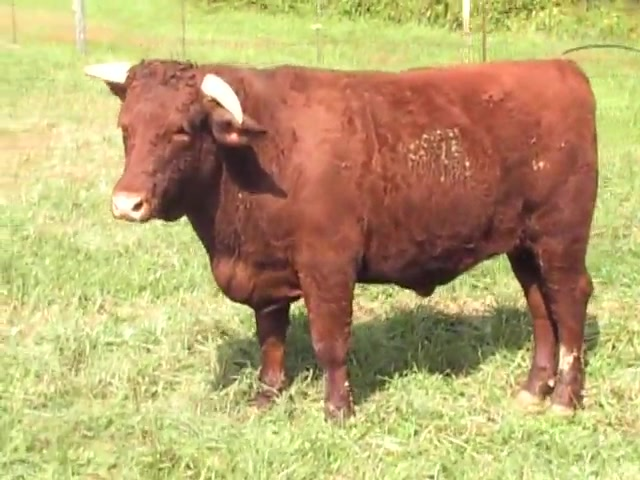cow: (84, 61, 601, 424)
